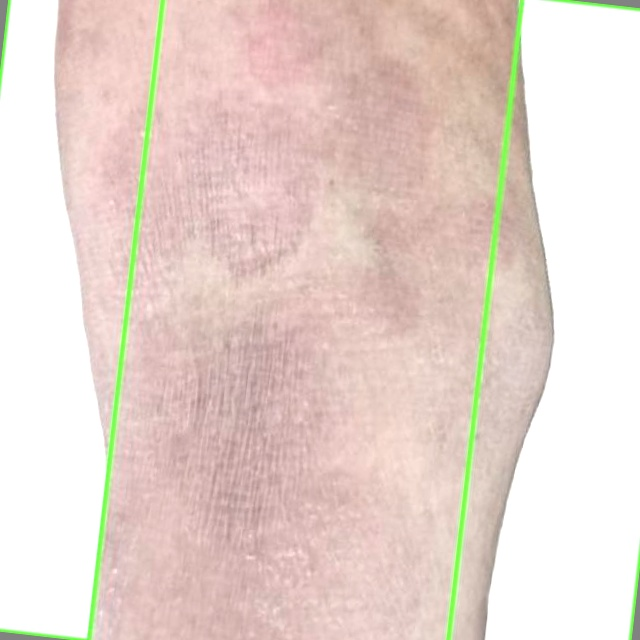Eczema: (448, 0, 639, 639), (0, 0, 162, 639)
